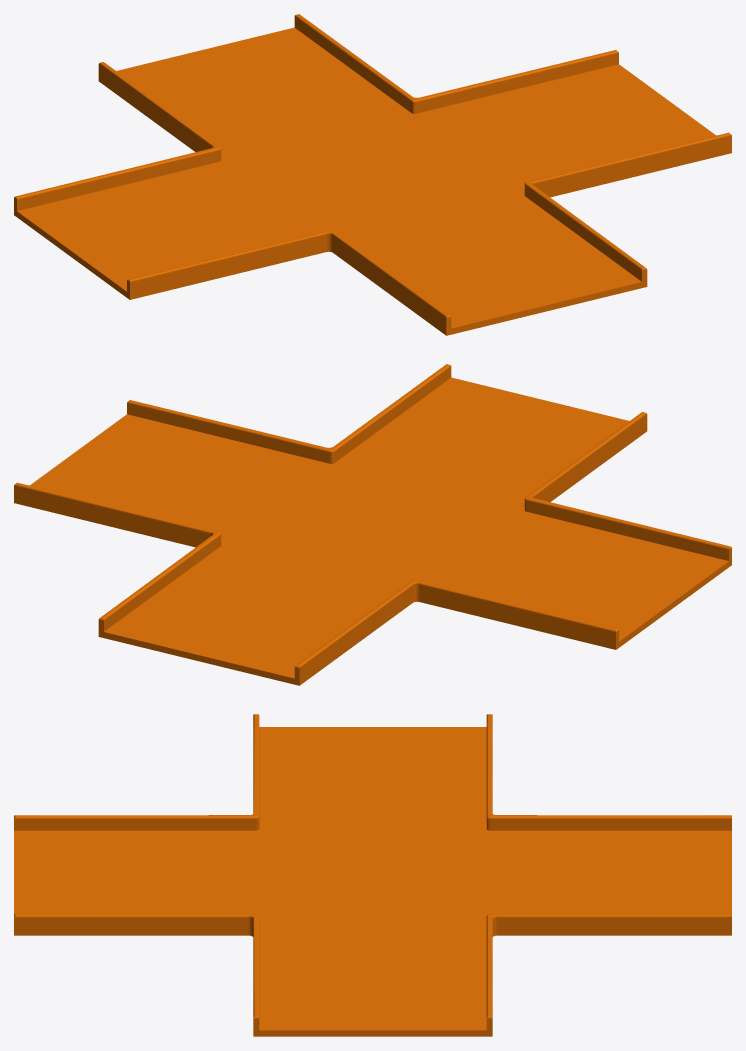
File: Track4WayIntersection.fbx
3 renders of one model, top to bottom at view 1: azimuth 30°, elevation 25°; view 2: azimuth 150°, elevation 25°; view 3: azimuth 270°, elevation 25°, orthographic. The views are drawn at different scales.
Visible parts, largest first — view 1: Track4WayIntersection; view 2: Track4WayIntersection; view 3: Track4WayIntersection.
Part boxes in pixels (<box>): Track4WayIntersection: <box>14,14,731,335</box>; Track4WayIntersection: <box>14,364,731,685</box>; Track4WayIntersection: <box>14,714,731,1036</box>.
Size of the model in its own units: 600 by 18.16 by 600.
